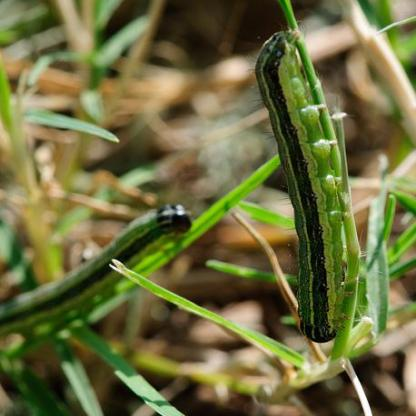armyworm: (256, 29, 380, 342), (3, 203, 190, 347)
